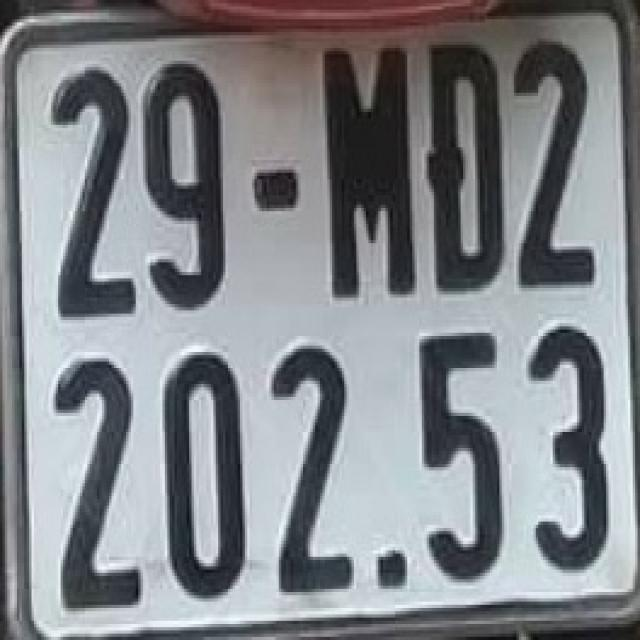0: (158, 342, 252, 602)
2: (44, 346, 148, 614), (44, 54, 140, 323), (264, 333, 361, 595), (509, 32, 604, 291)
3: (524, 320, 613, 576)
5: (410, 320, 509, 586)
9: (138, 54, 235, 314)
D: (422, 42, 509, 288)
M: (315, 45, 417, 304)
